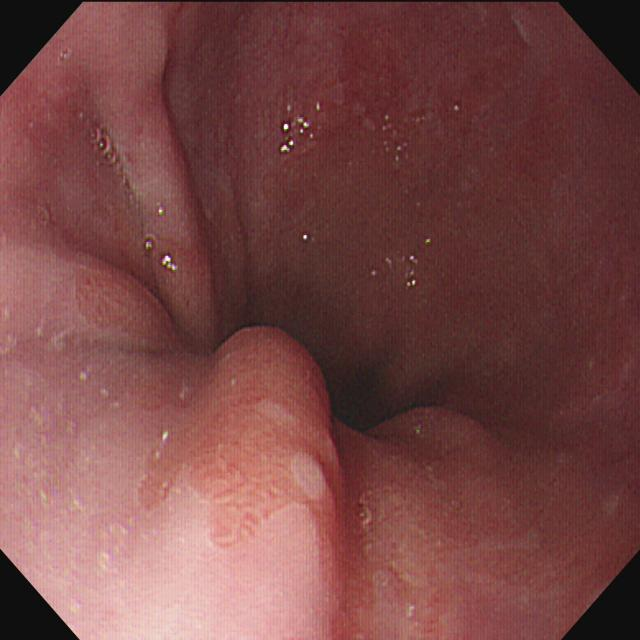I: (156, 208, 486, 481)
T: (86, 122, 136, 205), (356, 492, 375, 527)
U: (278, 118, 315, 158), (160, 254, 178, 275)
